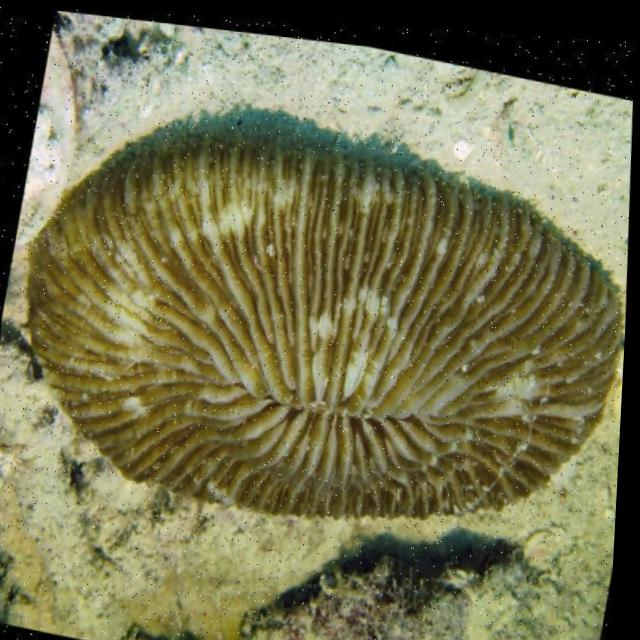Healthy Coral: (0, 66, 637, 589)
